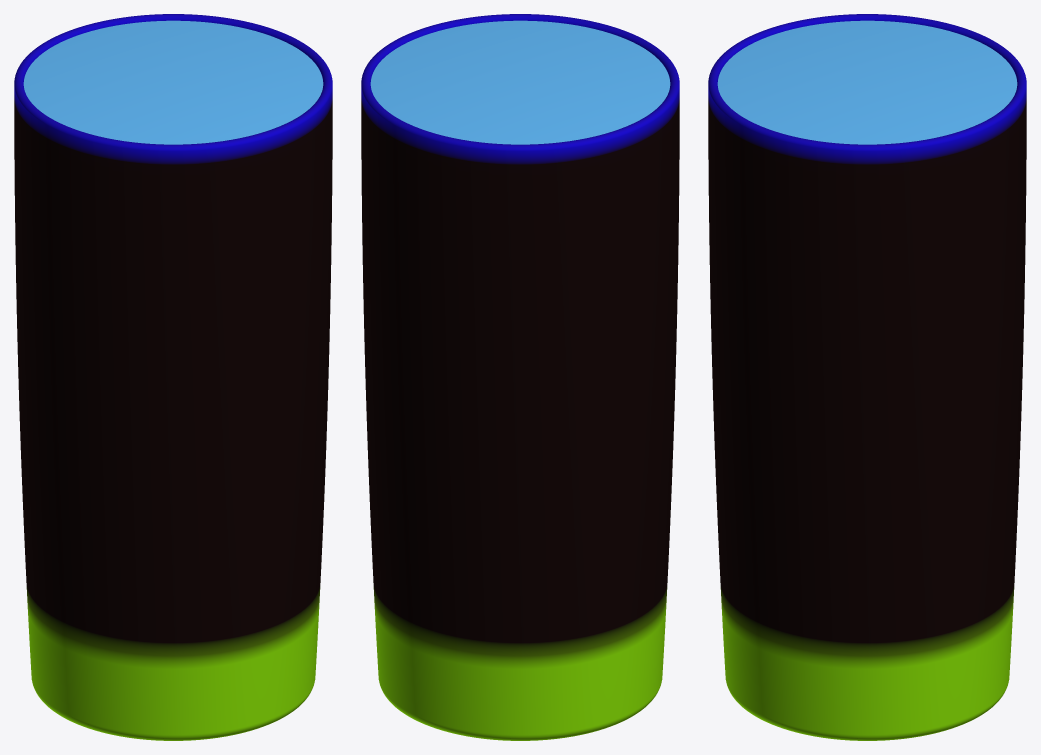
File: Highball.fbx
3 renders of one model, left to right at view 1: azimuth 30°, elevation 25°; view 2: azimuth 150°, elevation 25°; view 3: azimuth 270°, elevation 25°, orthographic.
Visible parts, largest first — view 1: Highball::Shell, Highball::InnerCavity; view 2: Highball::Shell, Highball::InnerCavity; view 3: Highball::Shell, Highball::InnerCavity.
Boxes of the visible parts, x1,y1,x2,y2 form: Highball::Shell: (14,14,332,740); Highball::InnerCavity: (23,20,323,144); Highball::Shell: (361,14,679,740); Highball::InnerCavity: (370,20,670,144); Highball::Shell: (708,14,1026,740); Highball::InnerCavity: (717,20,1017,144).
Size of the model in its own units: 7.4 by 15.5 by 7.4.
